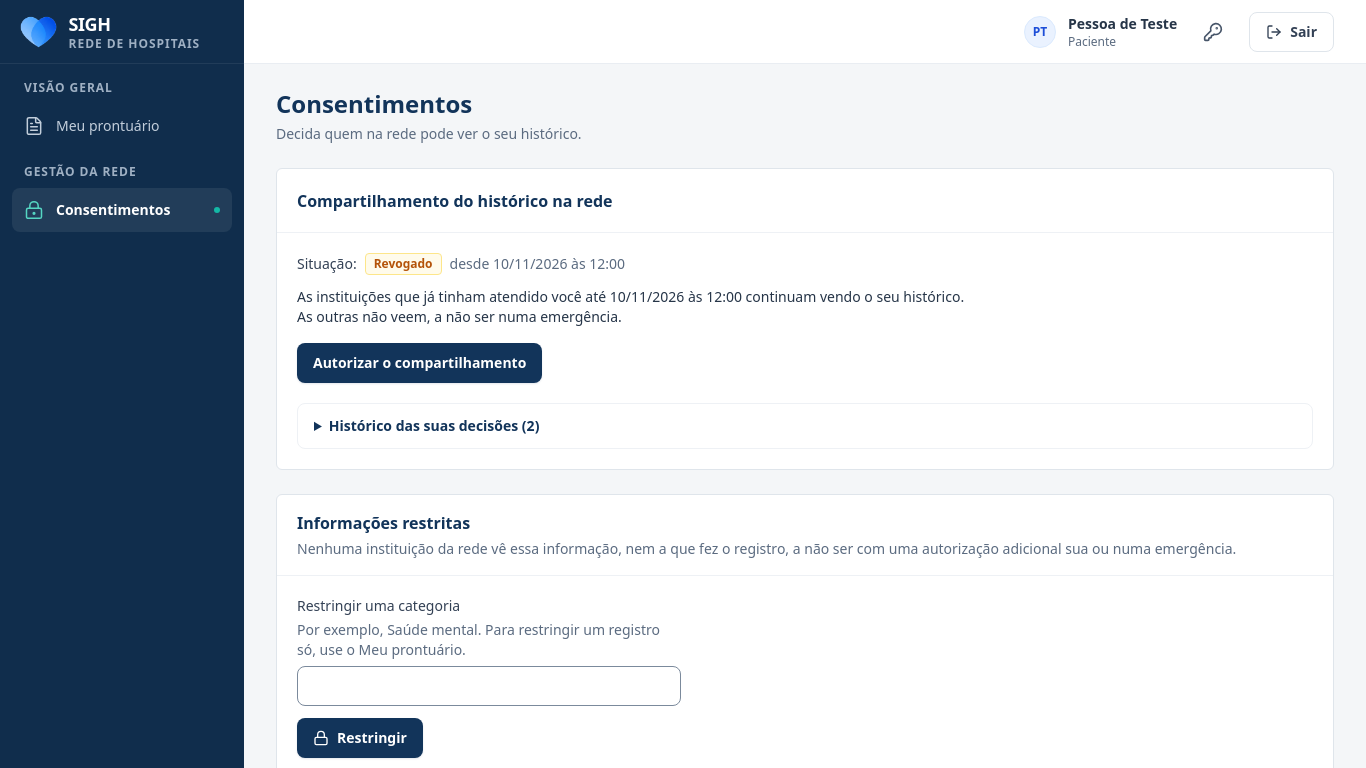
Test: FE-05: Consentimentos — compartilhamento na rede (RF-002, RN-007) › revogado: diz até quando as instituições que já atenderam continuam vendo, e permite autorizar de novo
The image size is (1366, 768).
Later steps or results of the test are not shown.
Expected: the heading "Consentimentos" is shown, [276, 87, 472, 120]
Expected: the text "Revogado" is shown, [365, 253, 442, 275]
Click the button "Autorizar o compartilhamento": {"x": 420, "y": 363} [297, 343, 542, 383]
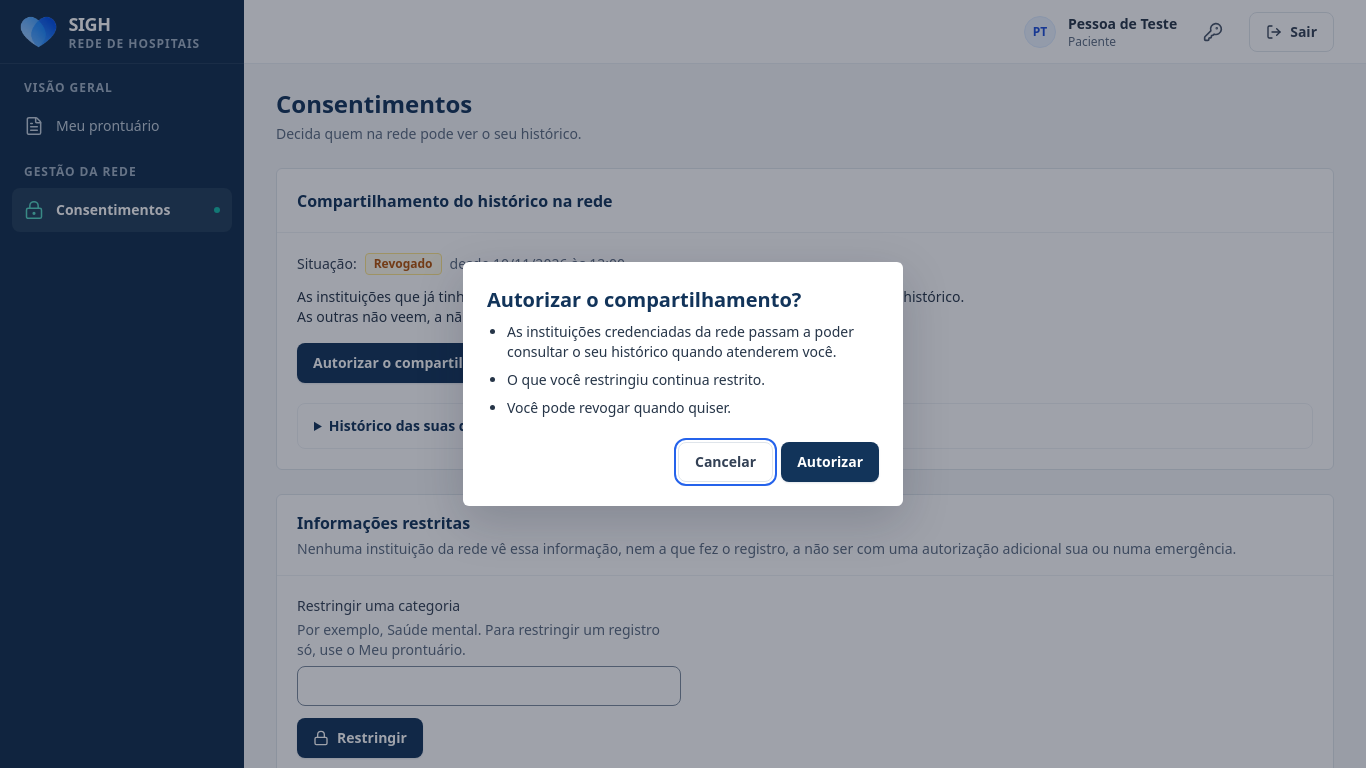
Expected: the dialog shows "O que você restringiu continua restrito.", [507, 370, 765, 389]
